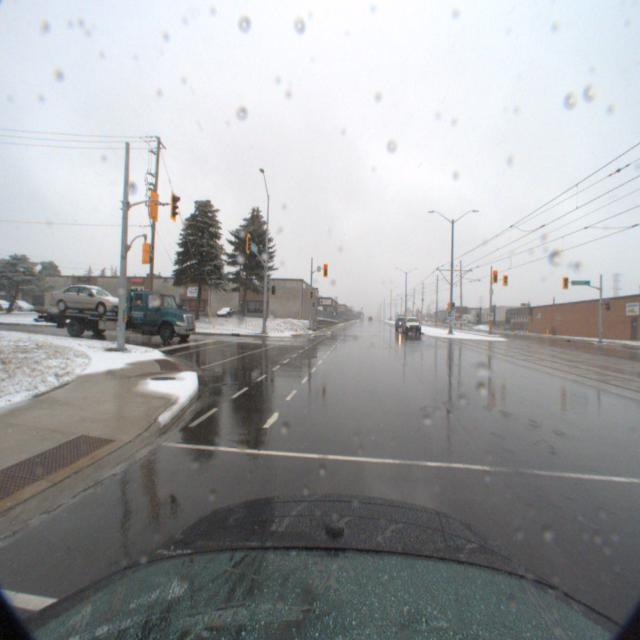Car: (401, 311, 423, 331)
